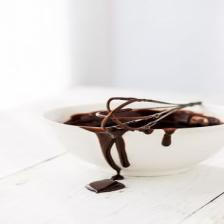brown: (65, 112, 103, 127)
